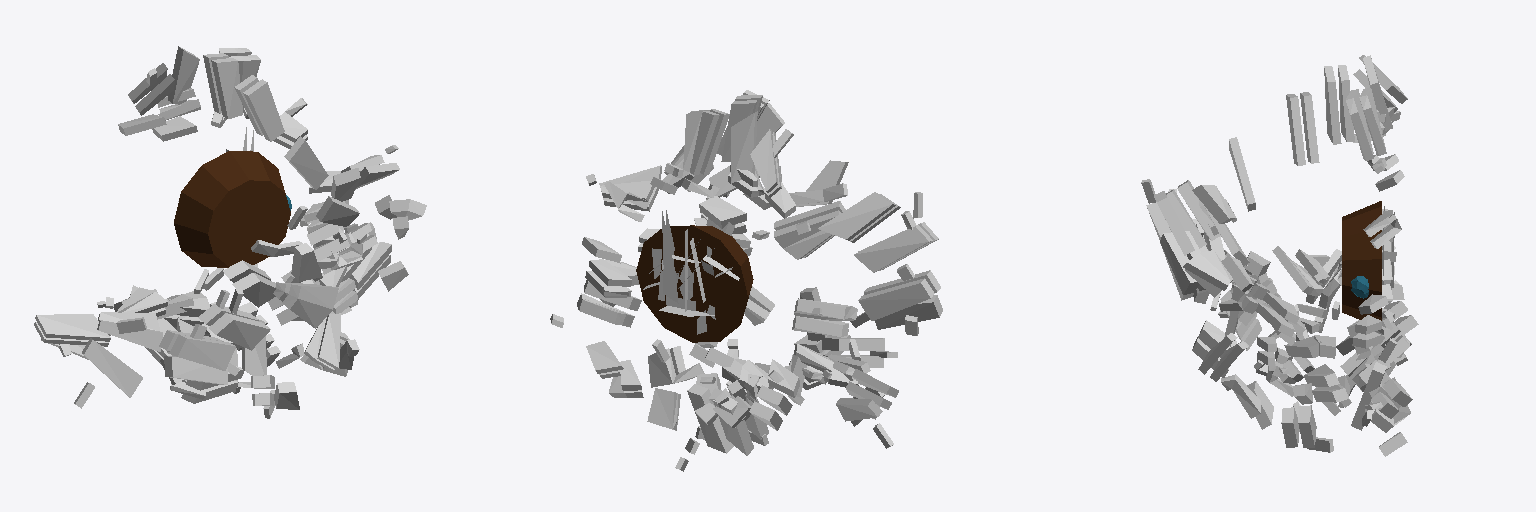
The picture shows the model from 3 angles: view 1: azimuth 30°, elevation 25°; view 2: azimuth 150°, elevation 25°; view 3: azimuth 270°, elevation 25°; orthographic projection.
Visible parts, largest first — view 1: Cone.001_Cone.001_cover, Cone_Cone_cover, Cylinder_Cylinder_Material.001; view 2: Cone_Cone_cover, Cone.001_Cone.001_cover, Cylinder_Cylinder_Material.001, Plane_Plane_Material.003; view 3: Cone_Cone_cover, Cone.001_Cone.001_cover, Cylinder_Cylinder_Material.001, Plane_Plane_Material.003.
Part boxes in pixels (left/top/right/bottom): Cone.001_Cone.001_cover: left=34, top=46, right=399, bottom=408; Cone_Cone_cover: left=114, top=168, right=426, bottom=418; Cylinder_Cylinder_Material.001: left=174, top=151, right=290, bottom=267; Cone_Cone_cover: left=550, top=146, right=942, bottom=471; Cone.001_Cone.001_cover: left=582, top=90, right=922, bottom=448; Cylinder_Cylinder_Material.001: left=636, top=225, right=753, bottom=342; Plane_Plane_Material.003: left=643, top=210, right=739, bottom=334; Cone_Cone_cover: left=1146, top=180, right=1418, bottom=456; Cone.001_Cone.001_cover: left=1141, top=55, right=1407, bottom=415; Cylinder_Cylinder_Material.001: left=1342, top=201, right=1381, bottom=320; Plane_Plane_Material.003: left=1382, top=206, right=1404, bottom=300.
Bounding box in the file's own units: 3.4 × 3.51 × 2.39.
Materials: 4 (1 with a texture image).